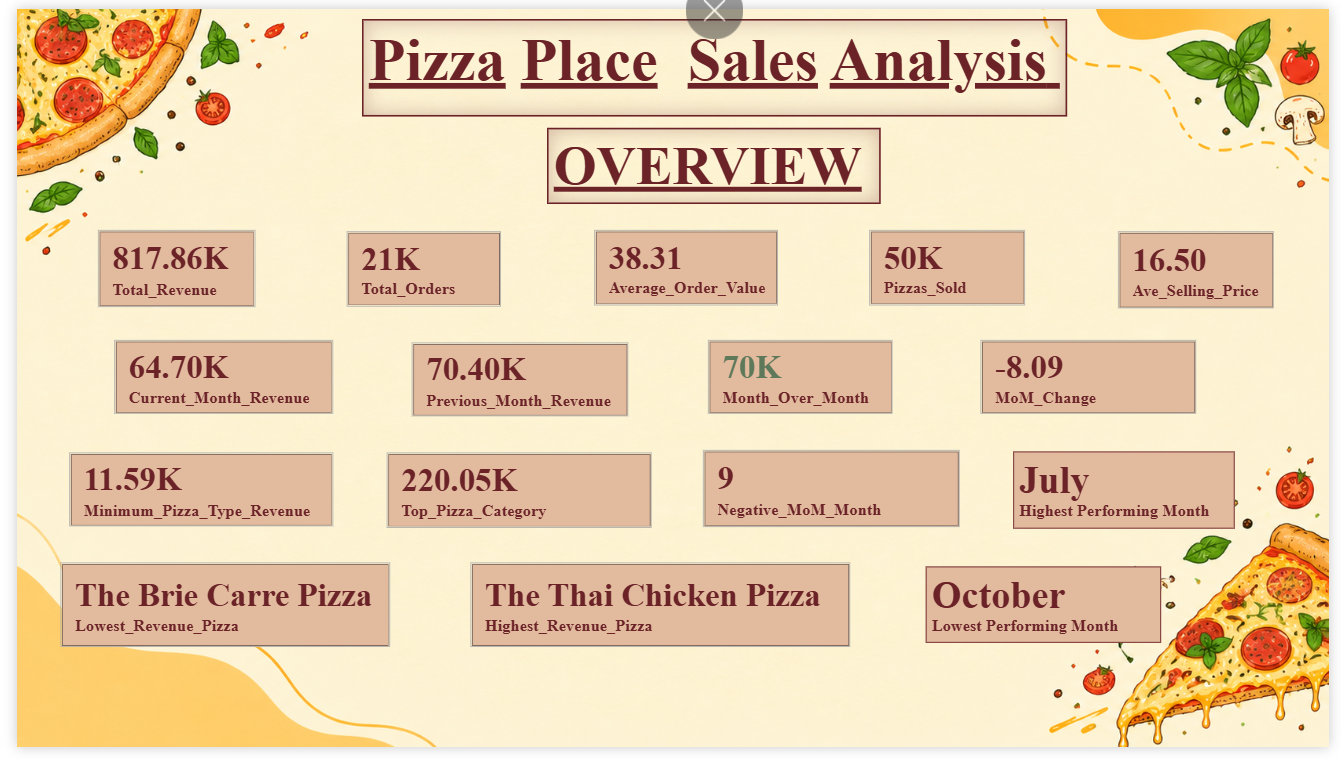

Layout of this report page (visuals, bound fields, positions):
{"tool":"powerbi","page":{"name":"Overview ","canvas":[1280,720],"ordinal":0},"visuals":[{"type":"cardVisual","fields":{"Data":["Measure_Table_1.Total_Revenue"]},"box":[62.1,198.4,187.6,109.3],"z":0},{"type":"cardVisual","fields":{"Data":["Measure_Table_1.Total_Orders"]},"box":[305.4,199.8,184.9,108],"z":1000},{"type":"cardVisual","fields":{"Data":["Measure_Table_1.Pizzas_Sold"]},"box":[815,198.4,186.3,108],"z":2000},{"type":"cardVisual","fields":{"Data":["Measure_Table_1.Average_Order_Value"]},"box":[546.1,198.4,213.3,108],"z":3000},{"type":"cardVisual","fields":{"Data":["Measure_Table_1.Month_Over_Month"]},"box":[657.4,306.4,214.6,106.6],"z":4000},{"type":"textbox","title":"Pizza Place Sale Analysis","box":[336.4,9.9,687.7,95.6],"z":5000},{"type":"textbox","box":[517.6,115.4,325.2,74.5],"z":6000},{"type":"cardVisual","fields":{"Data":["Measure_Table_2.Current_Month_Revenue"]},"box":[78.3,306.4,247,106.6],"z":7000},{"type":"cardVisual","fields":{"Data":["Measure_Table_2.Previous_Month_Revenue"]},"box":[368.5,309.1,245.7,106.6],"z":8000},{"type":"cardVisual","fields":{"Data":["Measure_Table_2.MoM_Change"]},"box":[923.4,306.4,244.3,106.6],"z":9000},{"type":"cardVisual","fields":{"Data":["Measure_Table_1.Ave_Selling_Price"]},"box":[1057,199.8,186.3,109.3],"z":10000},{"type":"cardVisual","fields":{"Data":["Measure_Table_2.Negative_MoM_Month"]},"box":[652,413.1,284.8,109.3],"z":11000},{"type":"cardVisual","fields":{"Data":["Measure_Table_1.Minimum_Pizza_Type_Revenue"]},"box":[33.7,415.8,291.6,106.6],"z":12000},{"type":"cardVisual","fields":{"Data":["Measure_Table_1.Top_Pizza_Category"]},"box":[344.2,415.8,292.9,108],"z":13000},{"type":"cardVisual","fields":{"Data":["Measure_Table_1.Lowest_Revenue_Pizza"]},"box":[25.6,523.8,355,116.1],"z":14000},{"type":"cardVisual","fields":{"Data":["Measure_Table_1.Highest_Revenue_Pizza"]},"box":[425.2,523.8,405,116.1],"z":15000},{"type":"textbox","box":[886.9,544,229.5,74.2],"z":16000},{"type":"textbox","box":[972,432,216,75.6],"z":17000}]}

Visuals, with their boxes in screenshot pixels (x1, y1, x2, y2), scaled from the page's 1280x720 canvas onto the 1341x759 screenshot:
cardVisual - Measure_Table_1.Total_Revenue: locate(65, 209, 262, 324)
cardVisual - Measure_Table_1.Total_Orders: locate(320, 211, 514, 324)
cardVisual - Measure_Table_1.Pizzas_Sold: locate(854, 209, 1049, 323)
cardVisual - Measure_Table_1.Average_Order_Value: locate(572, 209, 796, 323)
cardVisual - Measure_Table_1.Month_Over_Month: locate(689, 323, 914, 435)
"Pizza Place Sale Analysis" textbox: locate(352, 10, 1073, 111)
textbox: locate(542, 122, 883, 200)
cardVisual - Measure_Table_2.Current_Month_Revenue: locate(82, 323, 341, 435)
cardVisual - Measure_Table_2.Previous_Month_Revenue: locate(386, 326, 643, 438)
cardVisual - Measure_Table_2.MoM_Change: locate(967, 323, 1223, 435)
cardVisual - Measure_Table_1.Ave_Selling_Price: locate(1107, 211, 1303, 326)
cardVisual - Measure_Table_2.Negative_MoM_Month: locate(683, 435, 981, 551)
cardVisual - Measure_Table_1.Minimum_Pizza_Type_Revenue: locate(35, 438, 341, 551)
cardVisual - Measure_Table_1.Top_Pizza_Category: locate(361, 438, 667, 552)
cardVisual - Measure_Table_1.Lowest_Revenue_Pizza: locate(27, 552, 399, 675)
cardVisual - Measure_Table_1.Highest_Revenue_Pizza: locate(445, 552, 870, 675)
textbox: locate(929, 573, 1170, 652)
textbox: locate(1018, 455, 1245, 535)
